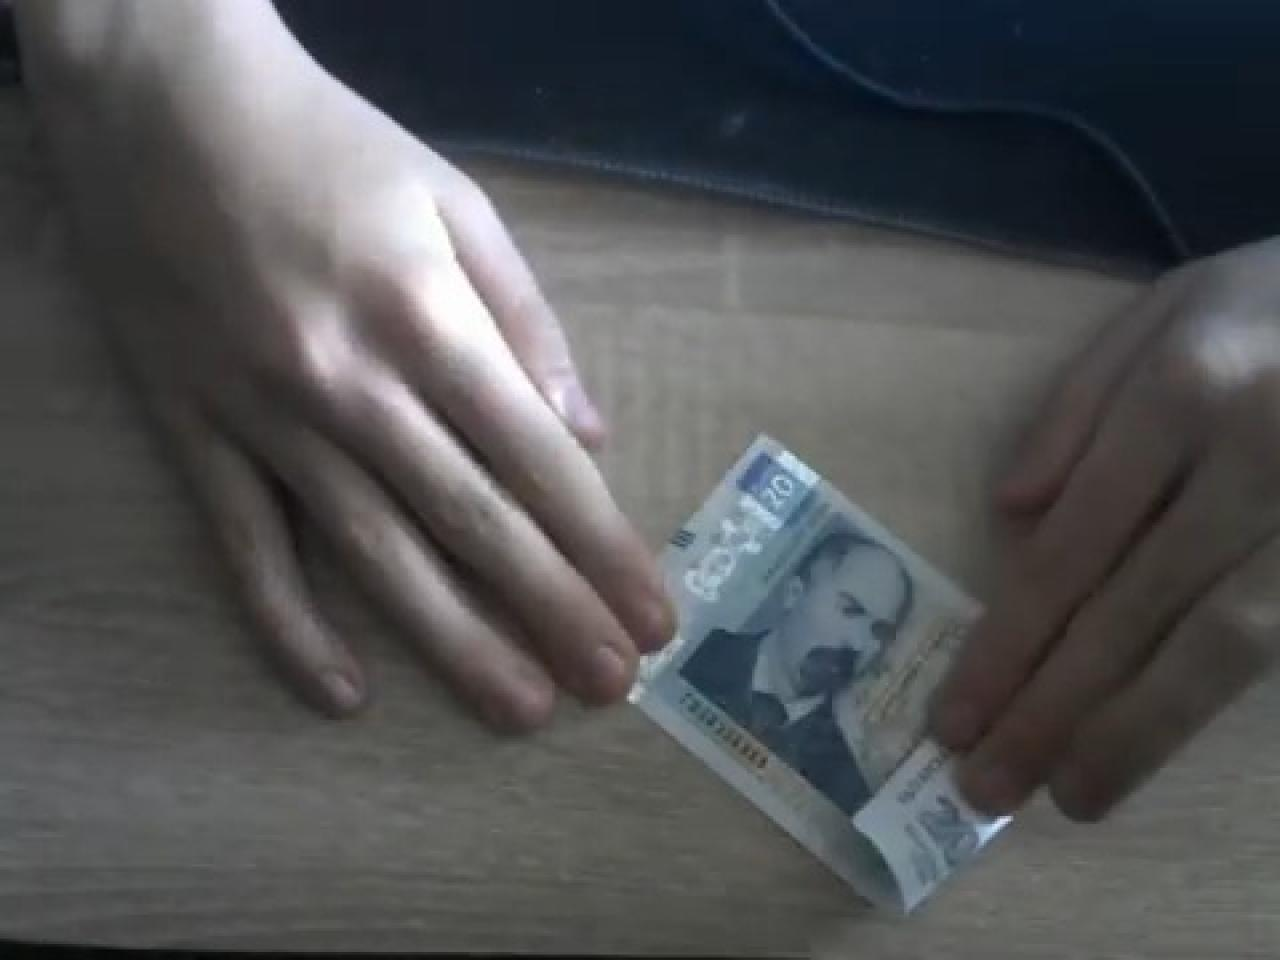20leva: (624, 430, 1019, 918)
